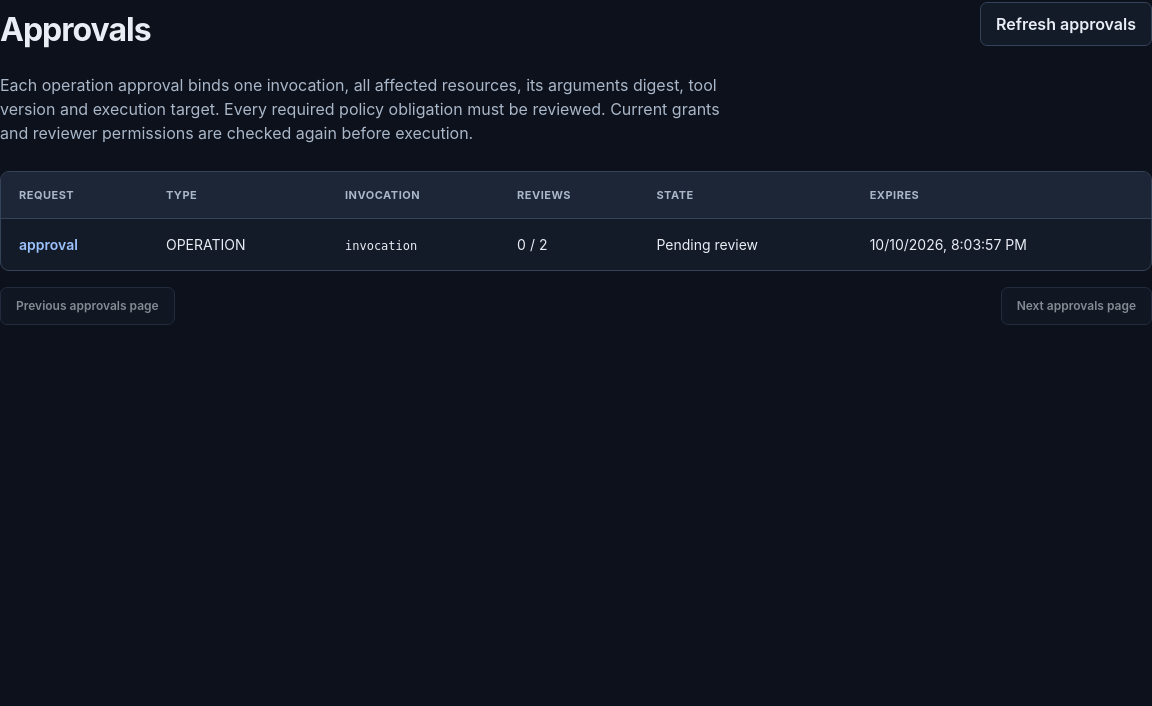
Test case: sends one exact obligation with a revision and prevents double submission
This screenshot has width=1152, height=706.
Click the button with aria-label "Review approval approval": (48, 245) 19,234 -> 78,255
(page scrolled)
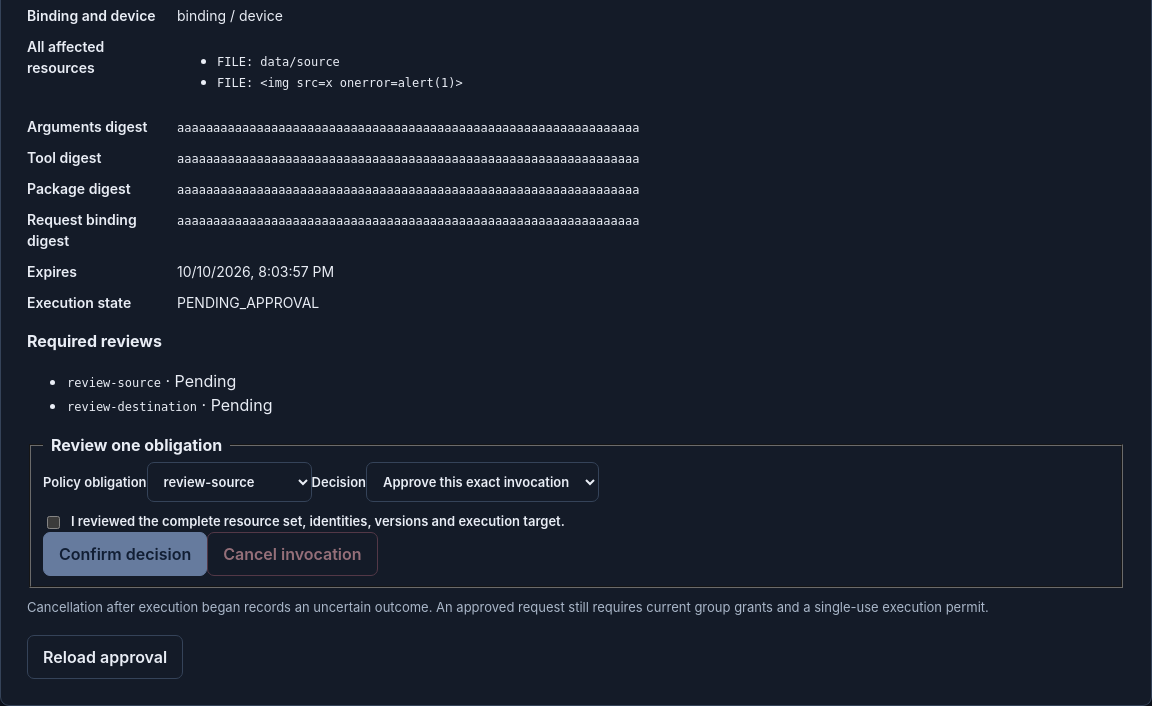
Expected: the text "FILE: data/source" is shown, 217,55 -> 340,69
Click the checkbox labelled "I reviewed the complete resource set, identities, versions and execution target.": (54, 522) 47,516 -> 60,528
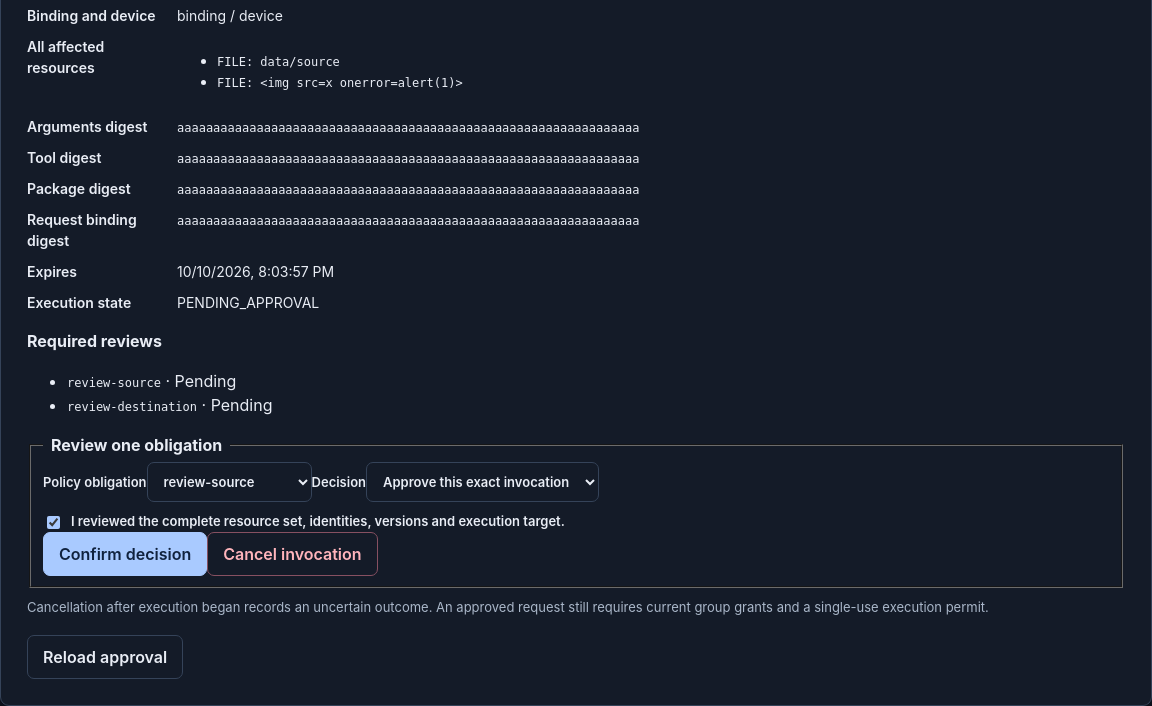
Click the button "Confirm decision": (125, 554) 43,532 -> 207,576
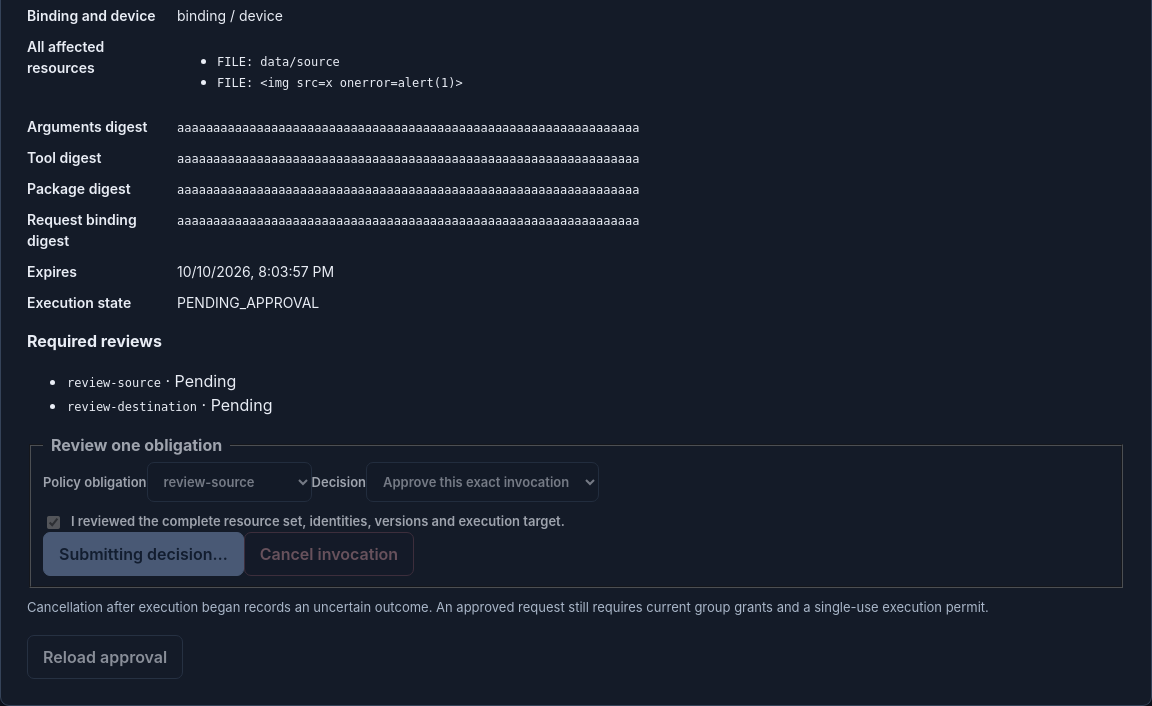
Click the button "Submitting decision…": (143, 554) 43,532 -> 244,576
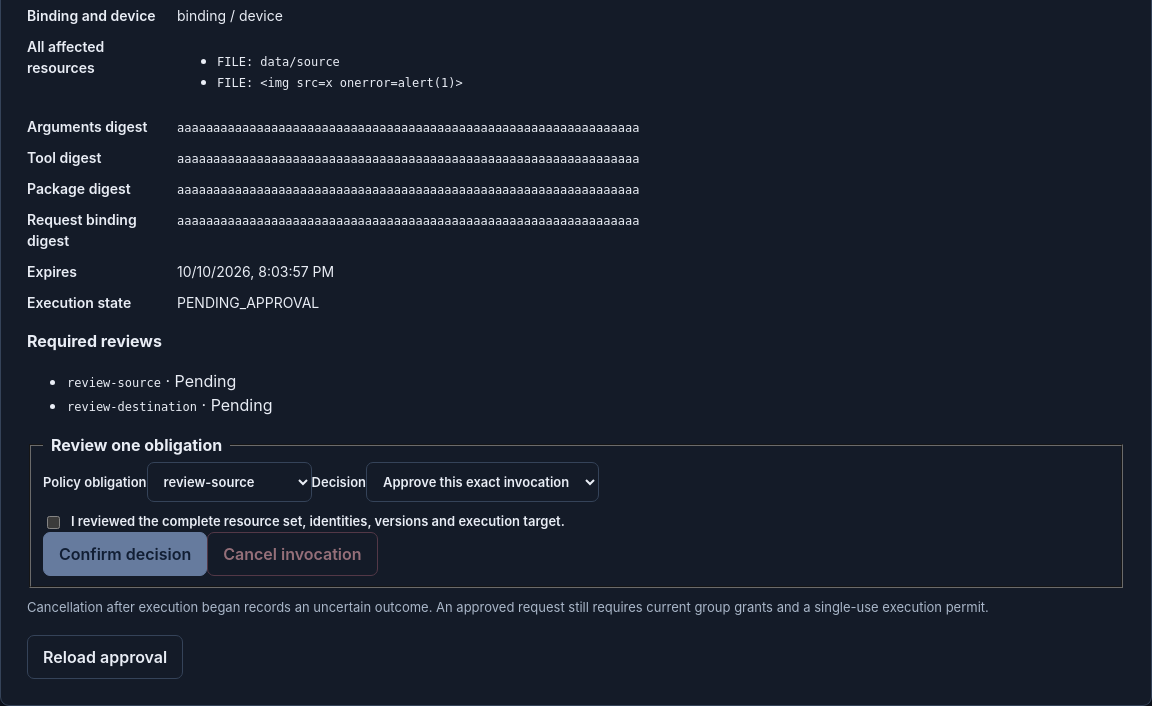
Expected: the button "Confirm decision" is disabled, 43,532 -> 207,576
